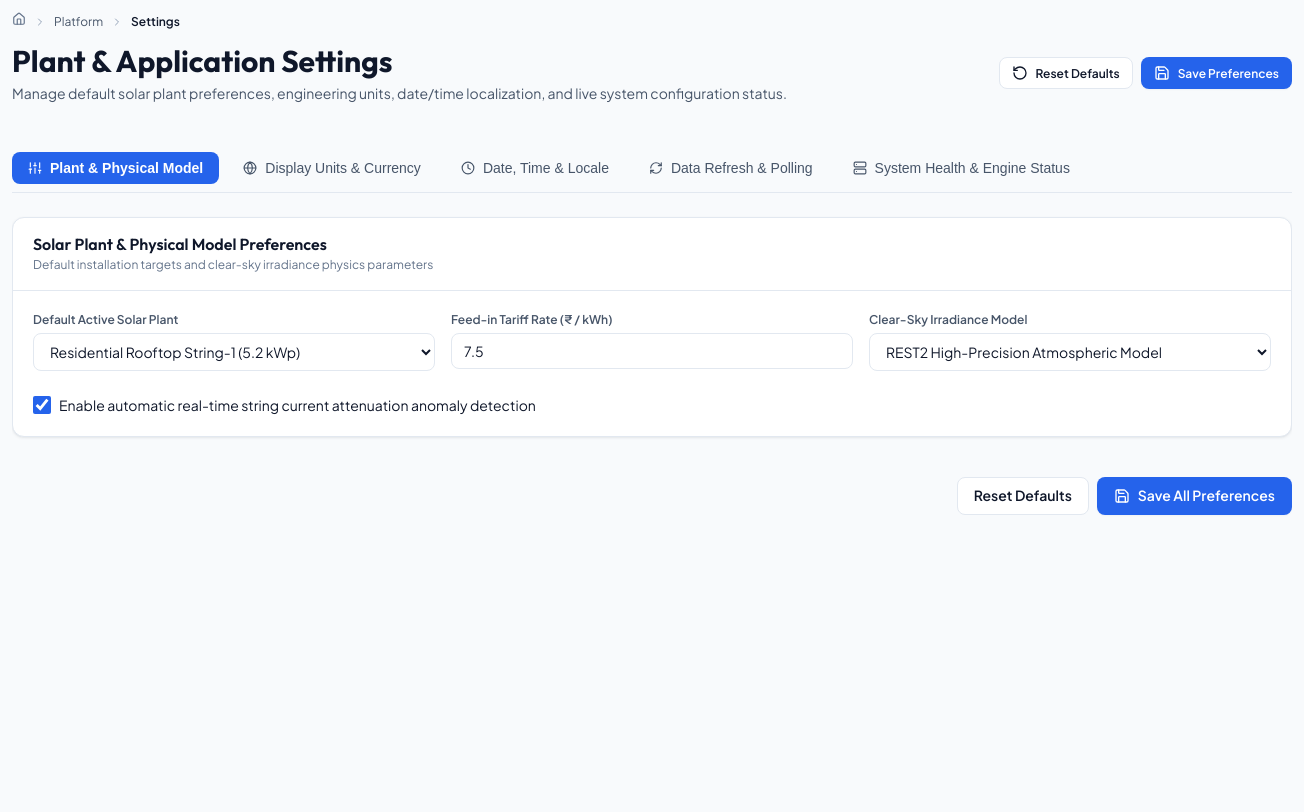
Test: SettingsPage Component Suite › saves updated settings and shows confirmation feedback
The width and height of the screenshot is (1304, 812).
Replace the text in the number field labelled "Feed-in Tariff Rate (₹ / kWh)" with "8.25" at (652, 350), box [451, 332, 853, 368]
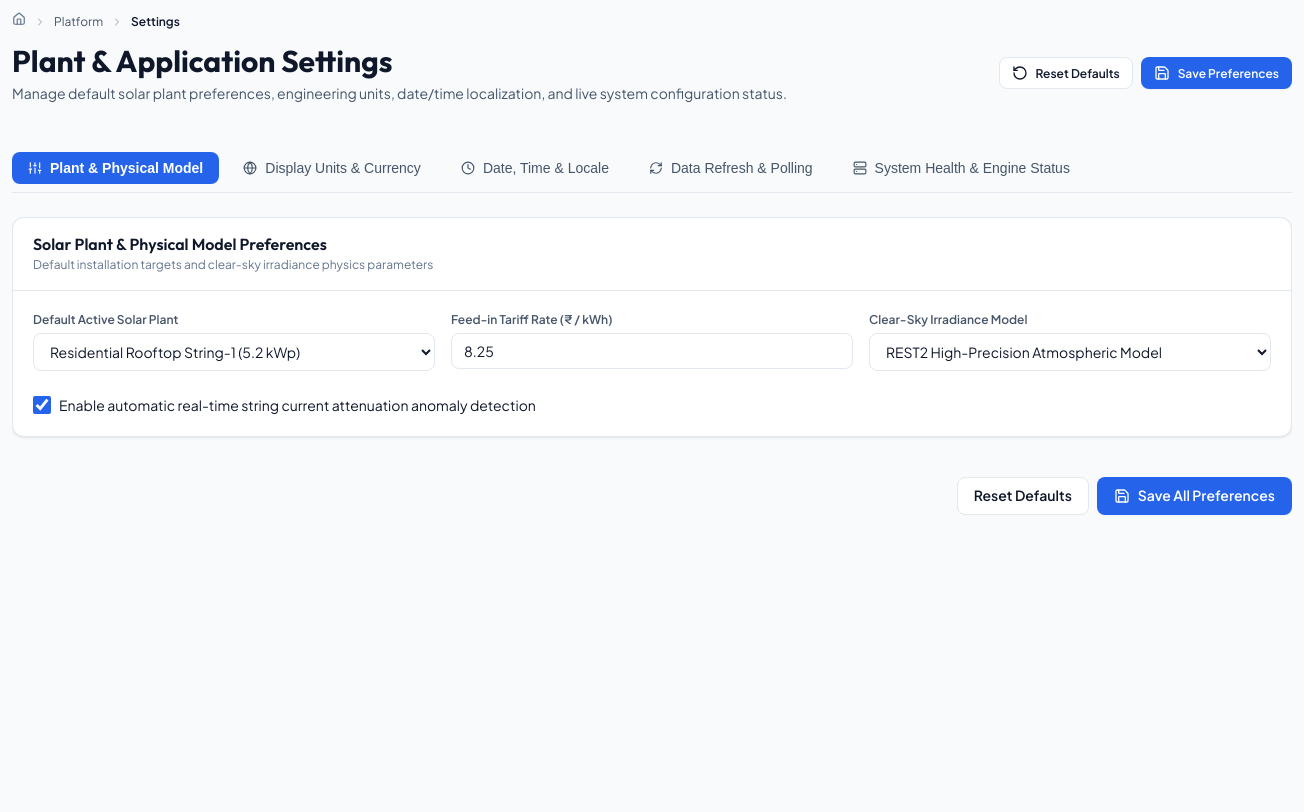
Click the button "Save Preferences".
click(1216, 73)  # box [1141, 57, 1292, 89]
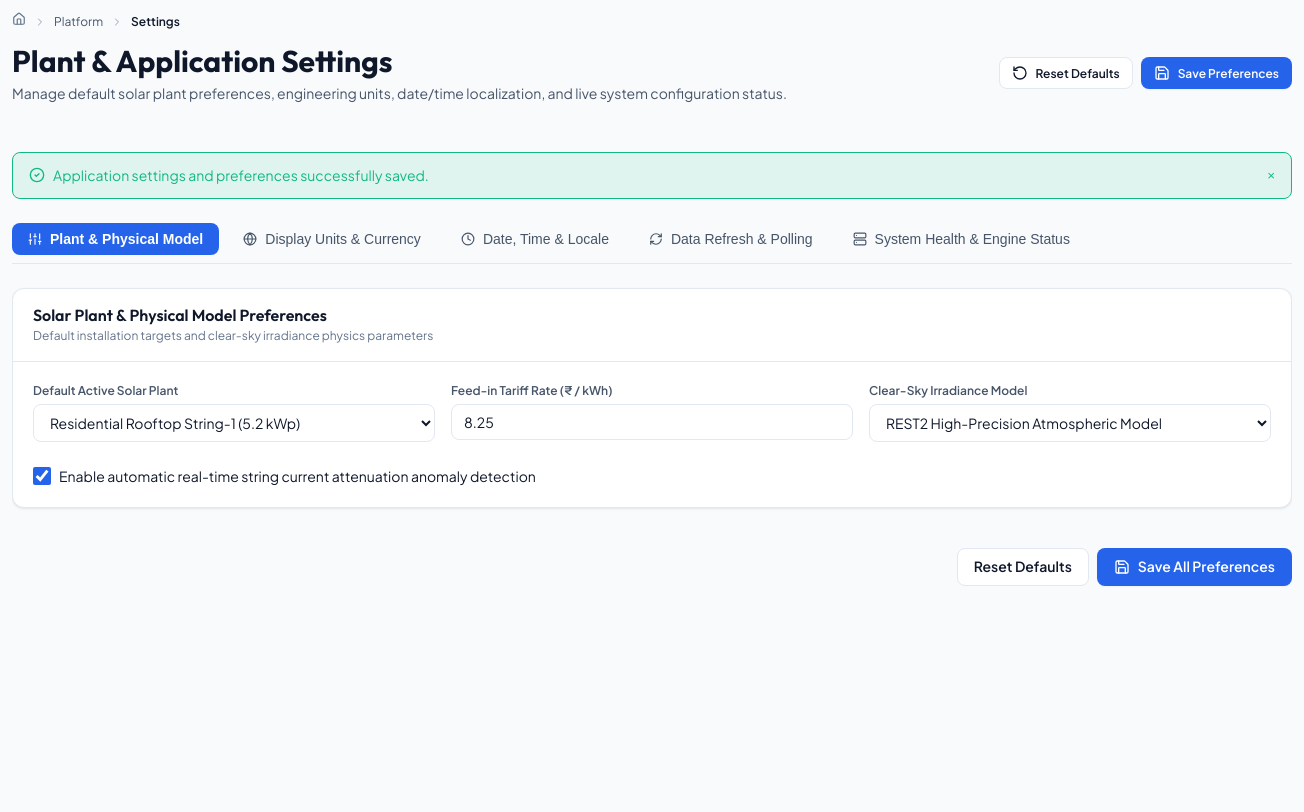
Expected: the text "Application settings and preferences successfully saved." is shown, [53, 164, 429, 186]
